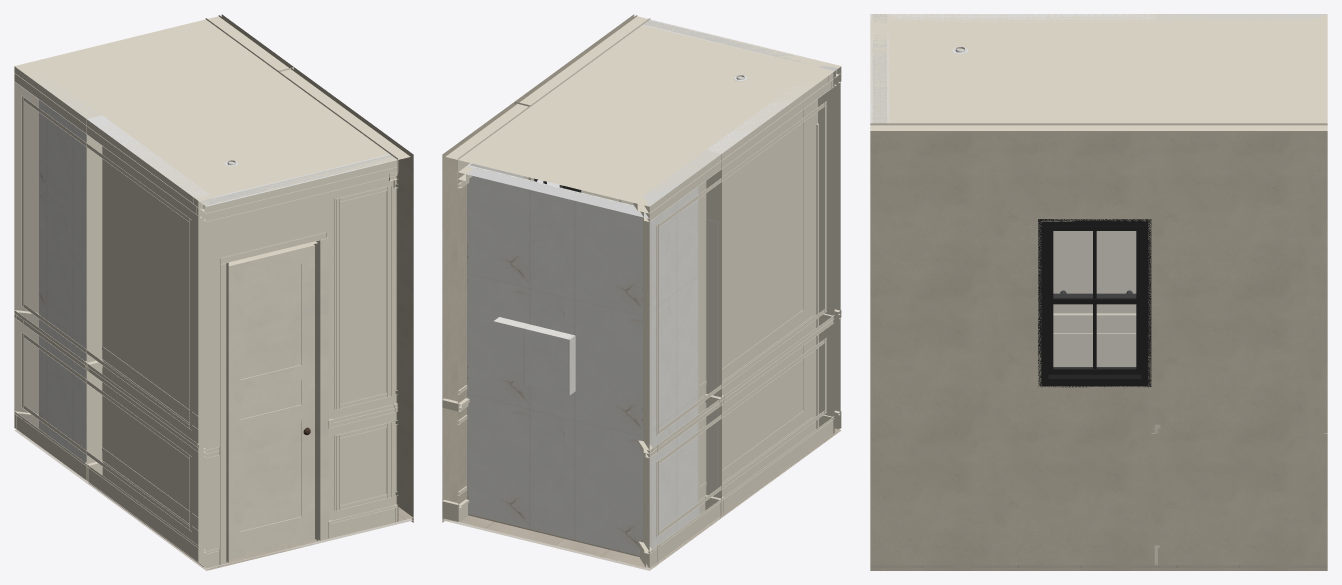
Rendered from loli-bathroom-272b7604839f.glb.
3 renders of one model, left to right at view 1: azimuth 30°, elevation 25°; view 2: azimuth 150°, elevation 25°; view 3: azimuth 270°, elevation 25°, orthographic. The views are drawn at different scales.
Parts seen in each view (by area): view 1: loli-bathroom-2575515a05775d9e, loli-bathroom-03bdd0165789d12b, loli-bathroom-0e637d2be41161fb, loli-bathroom-eceff908bd344cec, loli-bathroom-5795d1714989146e, loli-bathroom-e64cabe238f3e83a, loli-bathroom-319244b3406409d9, loli-bathroom-4a0606b58a607568, loli-bathroom-a8b6749dbb482e83, loli-bathroom-609bc1027670cc96, loli-bathroom-cc15fd6f291c811e, loli-bathroom-e2dd6cf138a61c96 (+19 smaller); view 2: loli-bathroom-51561c1911f47dcb, loli-bathroom-2575515a05775d9e, loli-bathroom-03bdd0165789d12b, loli-bathroom-5795d1714989146e, loli-bathroom-1c7325212038a6e7, loli-bathroom-e462de76b61e99cf, loli-bathroom-a90dd75c175210c7, loli-bathroom-0e637d2be41161fb, loli-bathroom-e64cabe238f3e83a, loli-bathroom-a8b6749dbb482e83, loli-bathroom-cc15fd6f291c811e, loli-bathroom-92c333610bf7beb4 (+13 smaller); view 3: loli-bathroom-319244b3406409d9, loli-bathroom-e462de76b61e99cf, loli-bathroom-2575515a05775d9e, loli-bathroom-15d1eb52c435a27e, loli-bathroom-03bdd0165789d12b, loli-bathroom-0e637d2be41161fb, loli-bathroom-3b0077416469e01b, loli-bathroom-76fec1e12e3db62a, loli-bathroom-1c7325212038a6e7, loli-bathroom-3b79cb6a0eb20f8c, loli-bathroom-687fd4d2e321b111.
Boxes of the visible parts, x1,y1,x2,y2 form: loli-bathroom-2575515a05775d9e: [14, 15, 410, 201]; loli-bathroom-03bdd0165789d12b: [86, 115, 209, 560]; loli-bathroom-0e637d2be41161fb: [198, 154, 397, 568]; loli-bathroom-eceff908bd344cec: [228, 244, 314, 560]; loli-bathroom-5795d1714989146e: [39, 100, 86, 462]; loli-bathroom-e64cabe238f3e83a: [14, 78, 38, 428]; loli-bathroom-319244b3406409d9: [278, 67, 413, 521]; loli-bathroom-4a0606b58a607568: [318, 237, 328, 540]; loli-bathroom-a8b6749dbb482e83: [14, 412, 199, 562]; loli-bathroom-609bc1027670cc96: [206, 160, 398, 221]; loli-bathroom-cc15fd6f291c811e: [14, 67, 199, 216]; loli-bathroom-e2dd6cf138a61c96: [220, 232, 326, 564]; loli-bathroom-51561c1911f47dcb: [467, 165, 642, 556]; loli-bathroom-2575515a05775d9e: [445, 15, 840, 206]; loli-bathroom-03bdd0165789d12b: [707, 86, 833, 482]; loli-bathroom-5795d1714989146e: [641, 187, 698, 549]; loli-bathroom-1c7325212038a6e7: [643, 150, 721, 567]; loli-bathroom-e462de76b61e99cf: [442, 102, 530, 502]; loli-bathroom-a90dd75c175210c7: [493, 317, 575, 395]; loli-bathroom-0e637d2be41161fb: [643, 19, 840, 433]; loli-bathroom-e64cabe238f3e83a: [458, 165, 649, 548]; loli-bathroom-a8b6749dbb482e83: [649, 417, 834, 567]; loli-bathroom-cc15fd6f291c811e: [649, 72, 834, 221]; loli-bathroom-92c333610bf7beb4: [656, 101, 826, 435]; loli-bathroom-319244b3406409d9: [870, 123, 1155, 565]; loli-bathroom-e462de76b61e99cf: [1155, 123, 1327, 565]; loli-bathroom-2575515a05775d9e: [870, 14, 1327, 132]; loli-bathroom-15d1eb52c435a27e: [1038, 219, 1151, 387]; loli-bathroom-03bdd0165789d12b: [889, 14, 1155, 366]; loli-bathroom-0e637d2be41161fb: [870, 14, 889, 123]; loli-bathroom-3b0077416469e01b: [870, 565, 1327, 567]; loli-bathroom-76fec1e12e3db62a: [870, 568, 1327, 570]; loli-bathroom-1c7325212038a6e7: [1155, 14, 1326, 21]; loli-bathroom-3b79cb6a0eb20f8c: [1053, 313, 1136, 323]; loli-bathroom-687fd4d2e321b111: [872, 14, 883, 123].
Size of the model in its own units: 1.8 by 3.05 by 2.88.
Materials: 36 (7 with a texture image).
